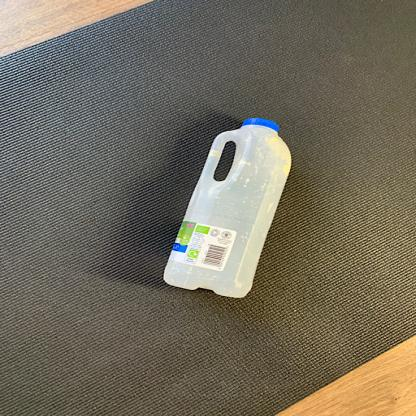trash: (160, 116, 294, 298)
